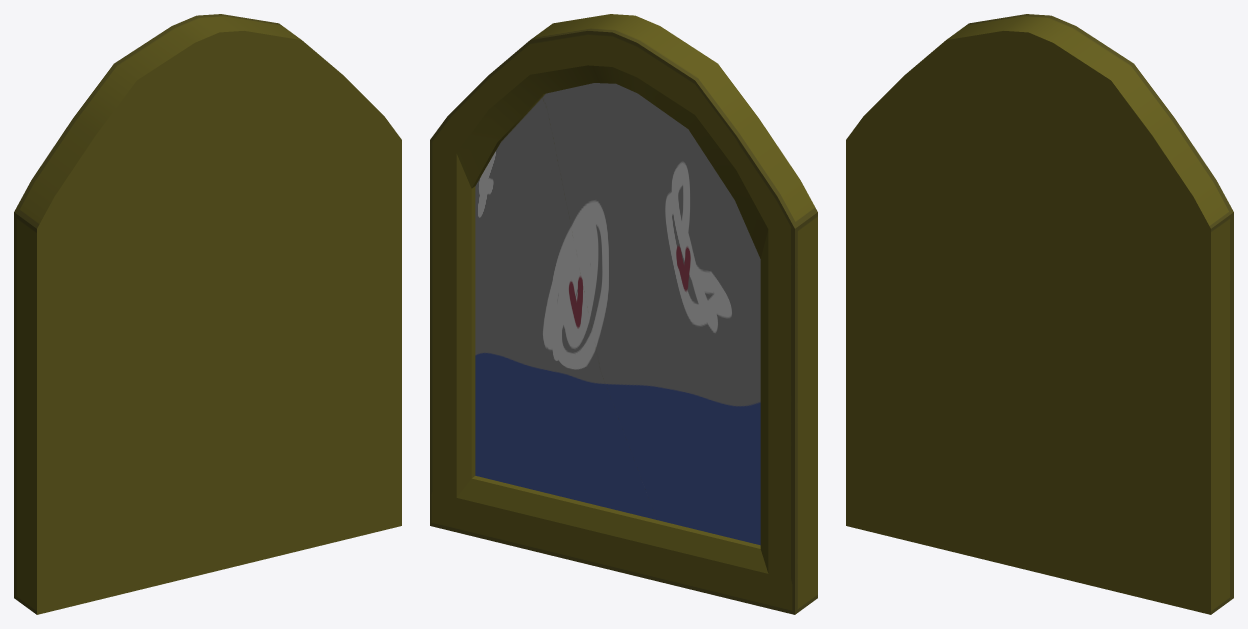
The model's file is BgMD_painting_frame09.fbx.
3 renders of one model, left to right at view 1: azimuth 30°, elevation 25°; view 2: azimuth 150°, elevation 25°; view 3: azimuth 330°, elevation 25°, orthographic.
Visible parts, largest first — view 1: Bg_painting_frame09; view 2: Bg_painting_frame09; view 3: Bg_painting_frame09.
Boxes of the visible parts, left/top/right/bottom form: Bg_painting_frame09: left=14, top=14, right=401, bottom=614; Bg_painting_frame09: left=430, top=14, right=817, bottom=614; Bg_painting_frame09: left=846, top=14, right=1233, bottom=614.
Bounding box in the file's own units: 140 × 198 × 15.31.
